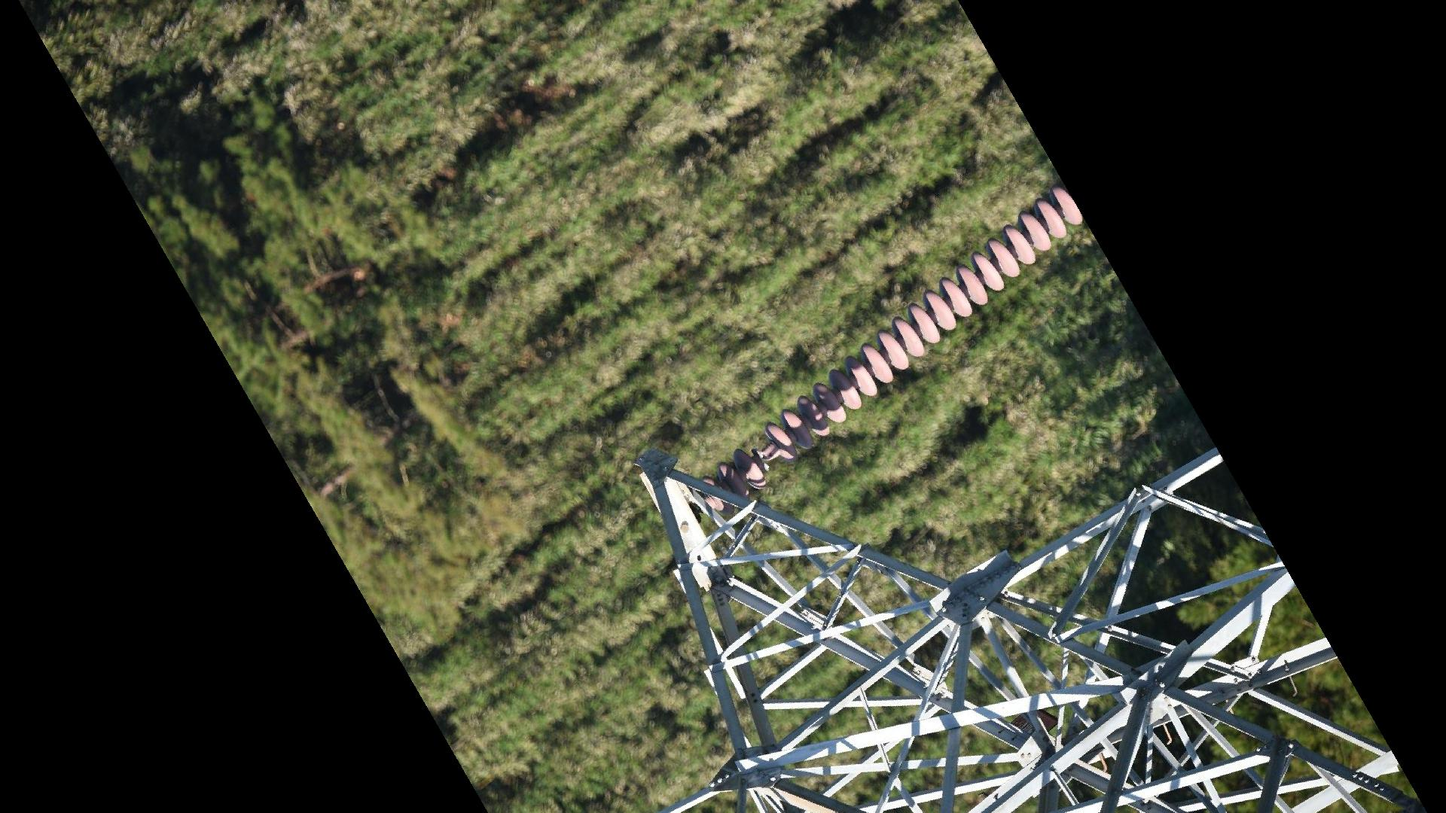insulator: (701, 184, 1087, 499)
insulator_stringdrop: (732, 419, 799, 492)
